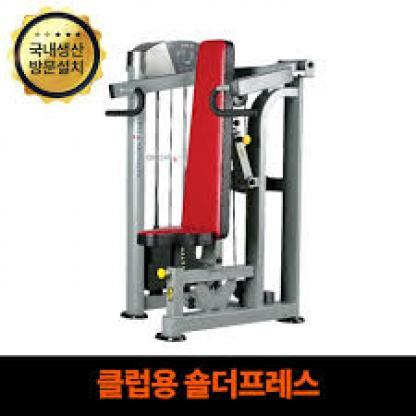shoulder press machine: (101, 34, 321, 347)
